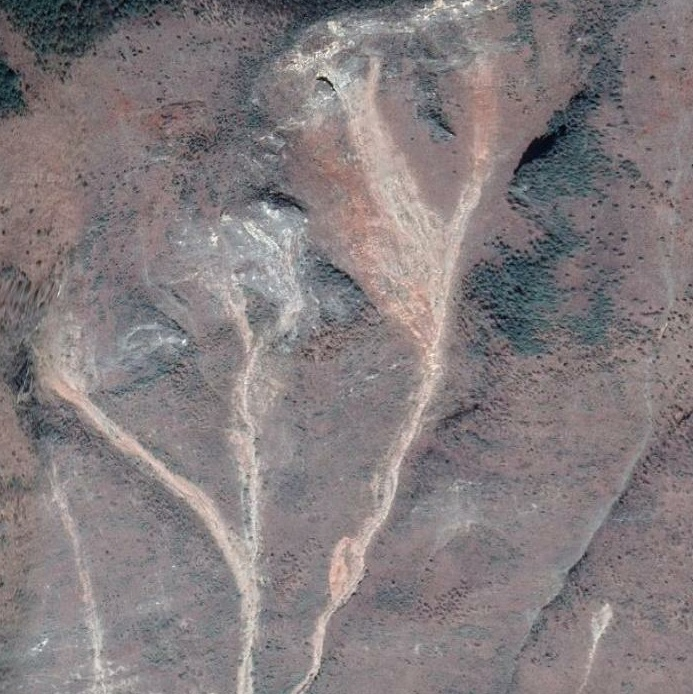slope: (146, 191, 377, 511), (292, 39, 502, 359), (30, 273, 187, 400), (323, 504, 383, 601), (583, 601, 614, 657)
